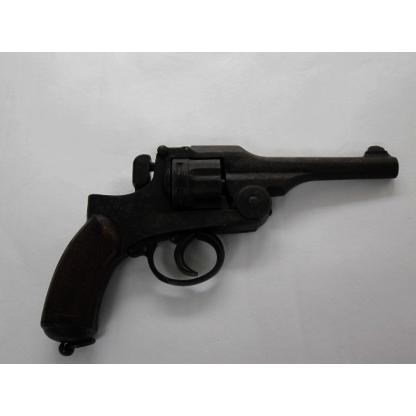gun: (40, 146, 400, 356)
